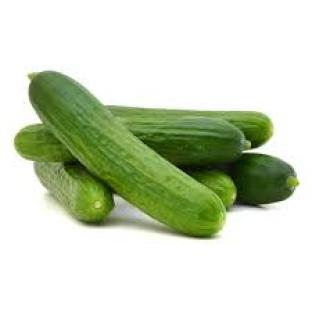Cucumber: (30, 71, 226, 235), (109, 106, 273, 148), (121, 117, 249, 166), (35, 163, 113, 223), (231, 153, 298, 203), (14, 124, 74, 162), (188, 170, 237, 210)
